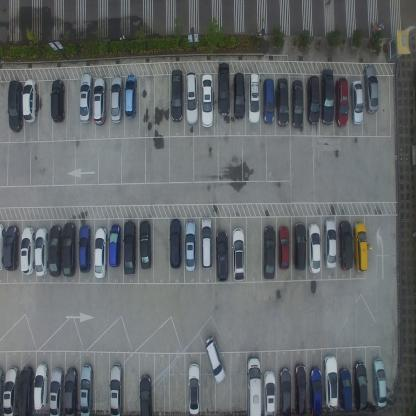car: (204, 335, 228, 385), (246, 353, 262, 415), (18, 364, 34, 416), (352, 360, 368, 412), (7, 79, 22, 134), (371, 357, 387, 408), (184, 71, 199, 125), (231, 226, 245, 282), (62, 221, 76, 277), (363, 65, 379, 114), (324, 354, 338, 410), (334, 77, 349, 129), (200, 74, 214, 129), (109, 362, 123, 416), (183, 219, 197, 272), (308, 222, 322, 275), (339, 219, 353, 272), (123, 219, 136, 276), (321, 68, 334, 125), (20, 225, 35, 274), (169, 217, 183, 269), (79, 363, 93, 415), (93, 226, 107, 278), (217, 61, 230, 117), (247, 72, 261, 124), (79, 72, 93, 124), (323, 218, 337, 270), (21, 78, 37, 123), (262, 225, 275, 280), (199, 217, 213, 268), (34, 360, 48, 411), (4, 364, 18, 415), (276, 76, 290, 127), (306, 75, 320, 126), (354, 222, 368, 273), (48, 224, 61, 278), (93, 75, 107, 125), (187, 362, 200, 415), (64, 366, 78, 415), (139, 219, 152, 271), (35, 225, 48, 277), (293, 220, 306, 272), (51, 78, 66, 123), (49, 367, 63, 415), (350, 78, 364, 125), (5, 224, 19, 271), (216, 229, 228, 283), (171, 68, 183, 122), (278, 366, 291, 415), (78, 224, 91, 273), (232, 72, 245, 121), (309, 366, 322, 415), (294, 362, 306, 415), (338, 367, 352, 412), (262, 77, 275, 125), (110, 76, 123, 124), (291, 78, 303, 129), (263, 368, 276, 415), (124, 73, 137, 120), (108, 222, 121, 268), (138, 374, 151, 415), (278, 224, 289, 271), (0, 222, 5, 273), (0, 366, 3, 415)
